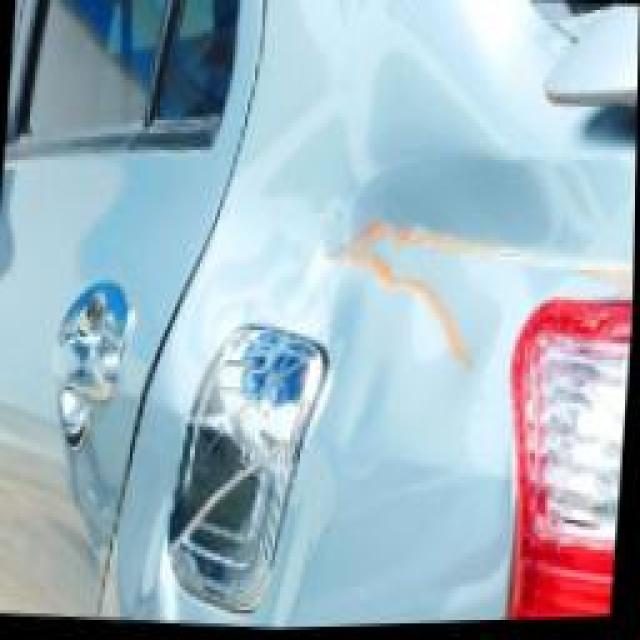Fender: (315, 167, 636, 393)
